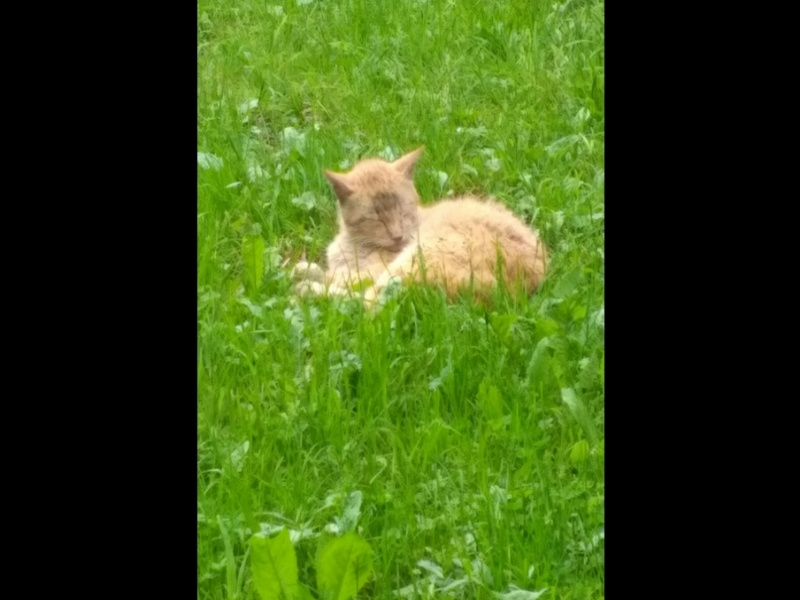cat: (286, 146, 554, 323)
